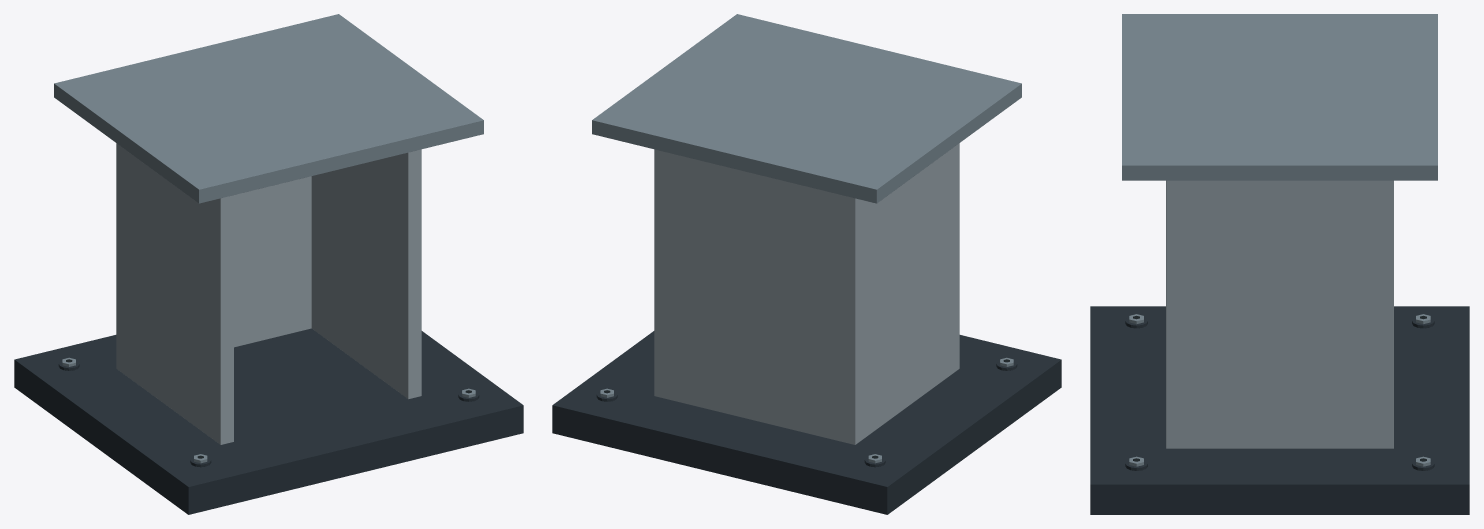
Rendered from SM_Lab_RobotPedestal.fbx.
The picture shows the model from 3 angles, left to right: view 1: azimuth 30°, elevation 25°; view 2: azimuth 150°, elevation 25°; view 3: azimuth 270°, elevation 25°; orthographic projection. The views are drawn at different scales.
Parts seen in each view (by area): view 1: SM_Lab_RobotPedestal; view 2: SM_Lab_RobotPedestal; view 3: SM_Lab_RobotPedestal.
Boxes of the visible parts, left/top/right/bottom form: SM_Lab_RobotPedestal: left=14, top=14, right=523, bottom=514; SM_Lab_RobotPedestal: left=552, top=14, right=1061, bottom=514; SM_Lab_RobotPedestal: left=1090, top=14, right=1469, bottom=514.
Bounding box in the file's own units: 100 × 90 × 88.
